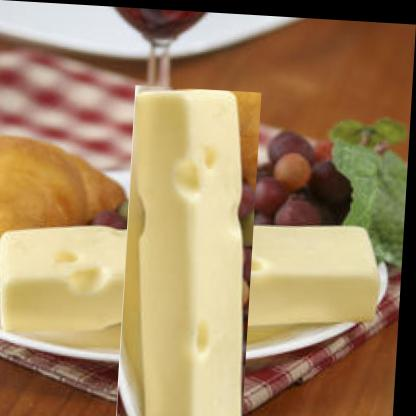cheese: (58, 144, 324, 410)
